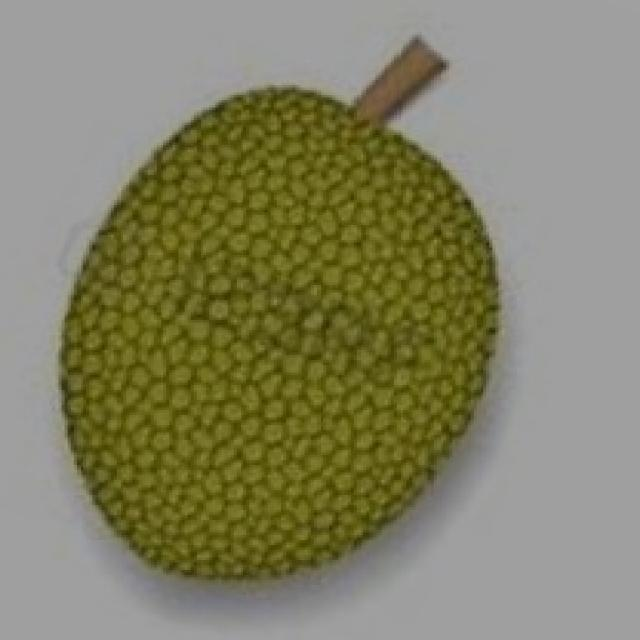Fruit: (145, 42, 544, 342)
